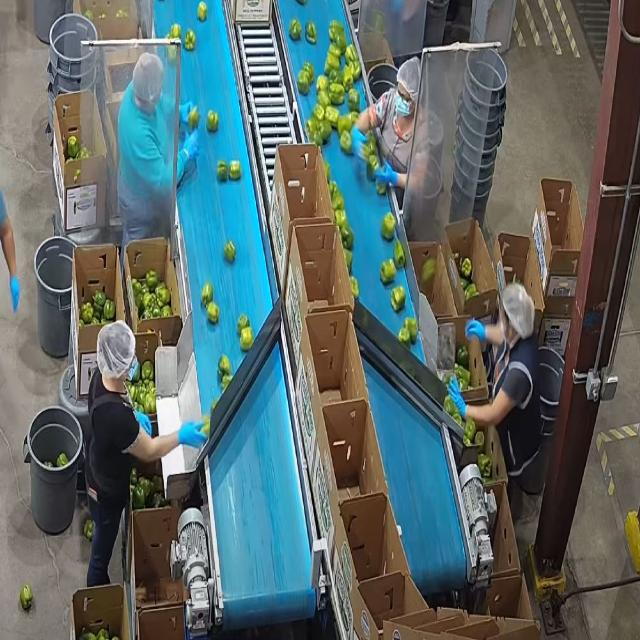gloved_hand: (174, 415, 212, 455), (375, 158, 399, 196), (448, 372, 467, 419), (349, 122, 368, 167), (184, 128, 202, 168), (462, 314, 486, 342), (6, 276, 23, 314), (133, 408, 153, 434), (181, 98, 197, 127)
